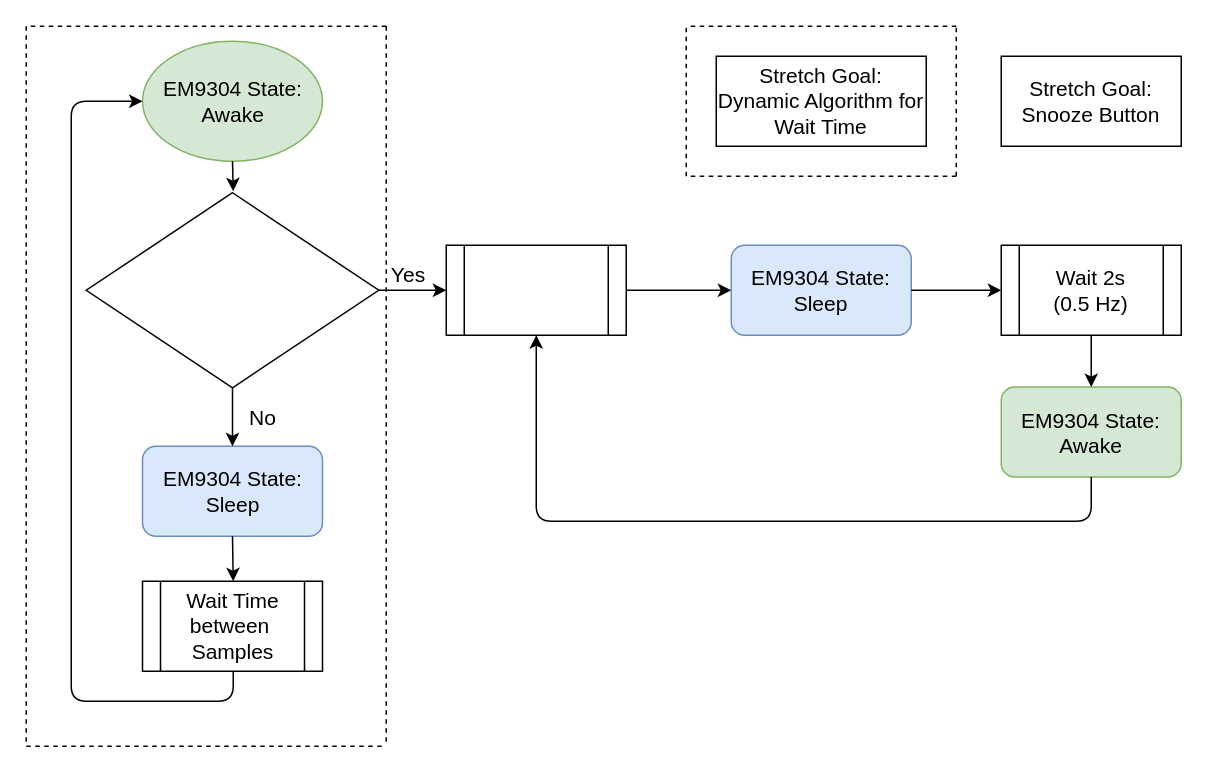
This 1208x774 diagram has some shape labels left out. The shapes that lost their labels are listed below. From the top down, each one's box as (x1, y1, x2, y2) in pixels, then its label:
(85, 191, 379, 388): Voltage Under Threshold
(445, 244, 626, 335): Send Bluetooth Packet
